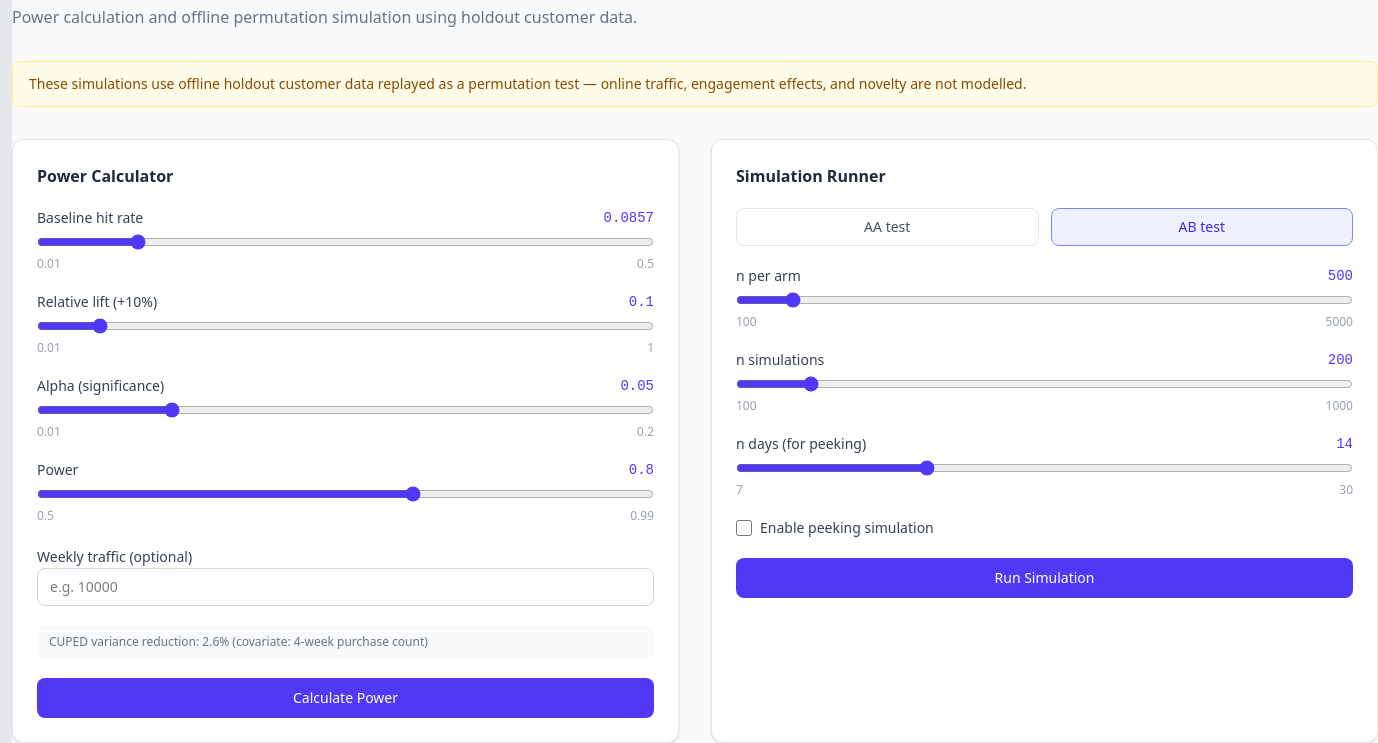
Scenario: ABSimulator page › renders error state for power calculation
This screenshot has width=1378, height=743.
(page scrolled)
Click the button "Calculate Power" at (346, 698), box [37,678,654,718]
(page scrolled)
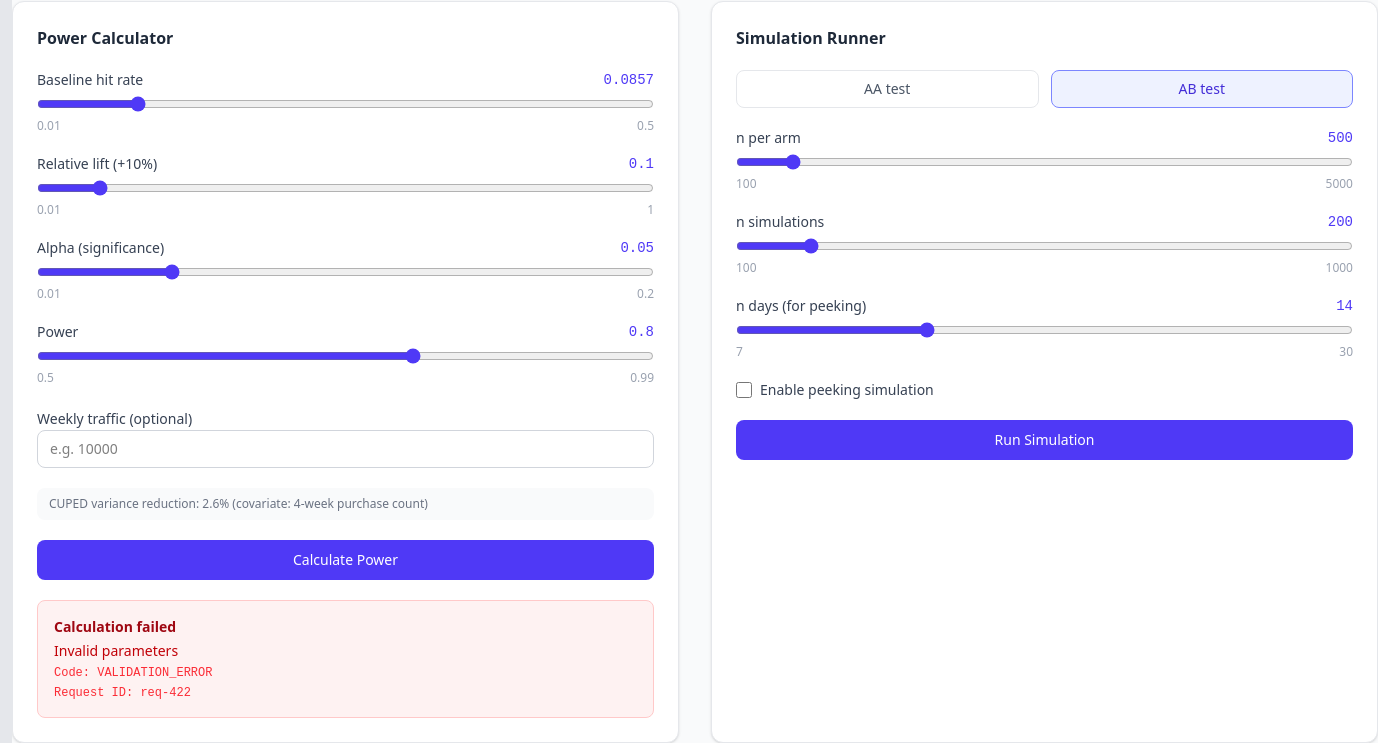
Expected: the text "Invalid parameters" is shown, [54,641,178,660]
Expected: the text "Request ID: req-422" is shown, [140,686,191,700]
